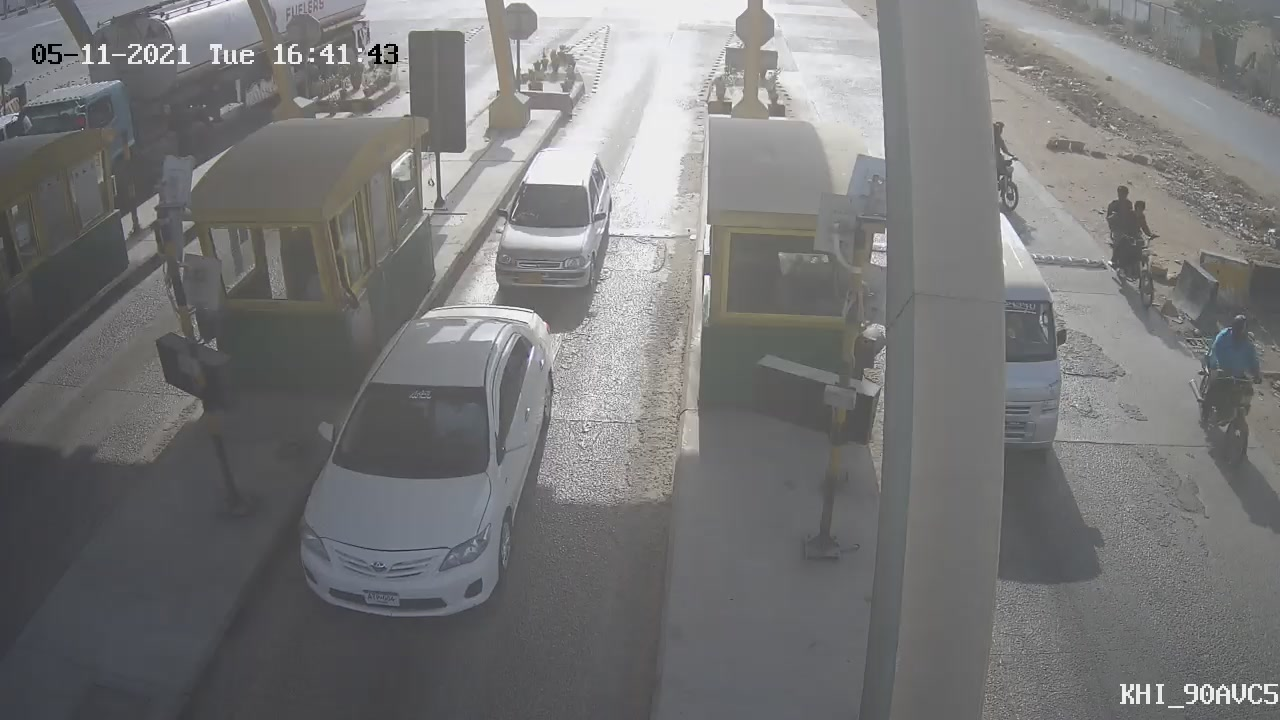F1: (478, 138, 627, 313)
